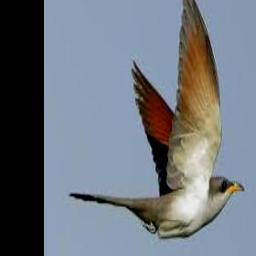Cuckoo: (69, 0, 243, 237)
